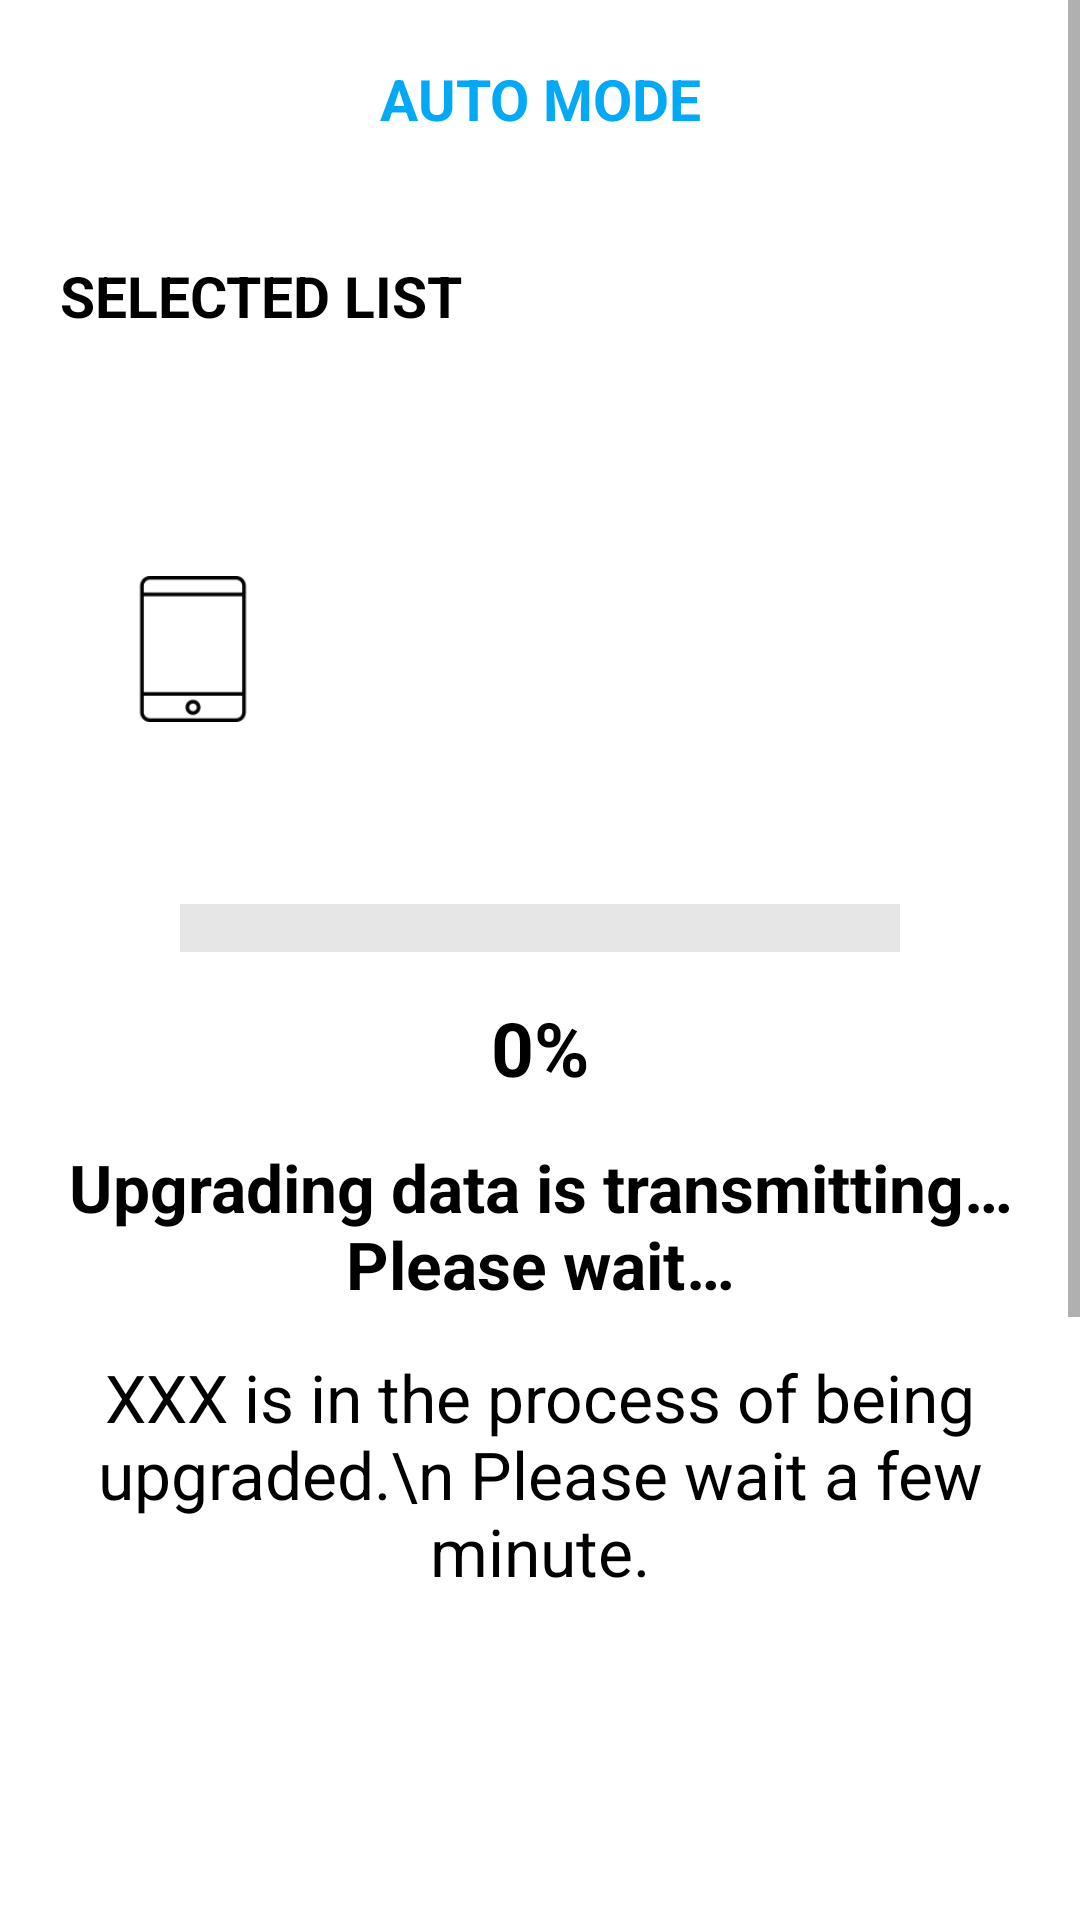

Icons on this 1080 x 1920 Android screen, each with the point to tap as [x,y]:
tablet: [193,649]
